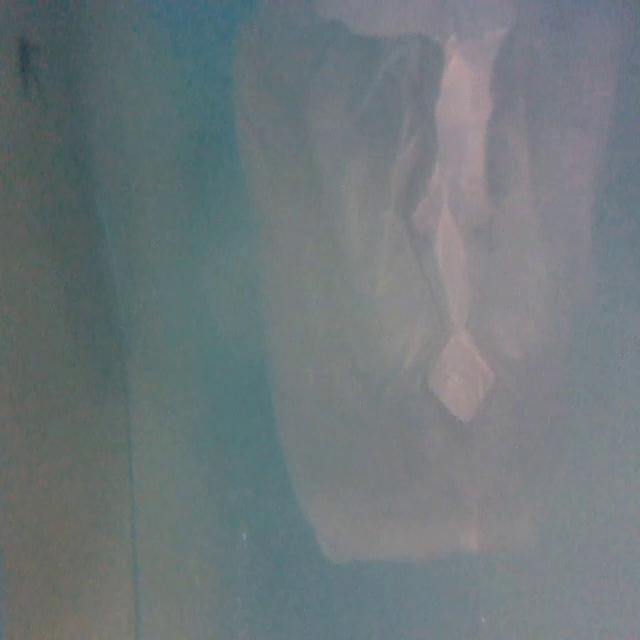plastic bags: (240, 0, 623, 560)
